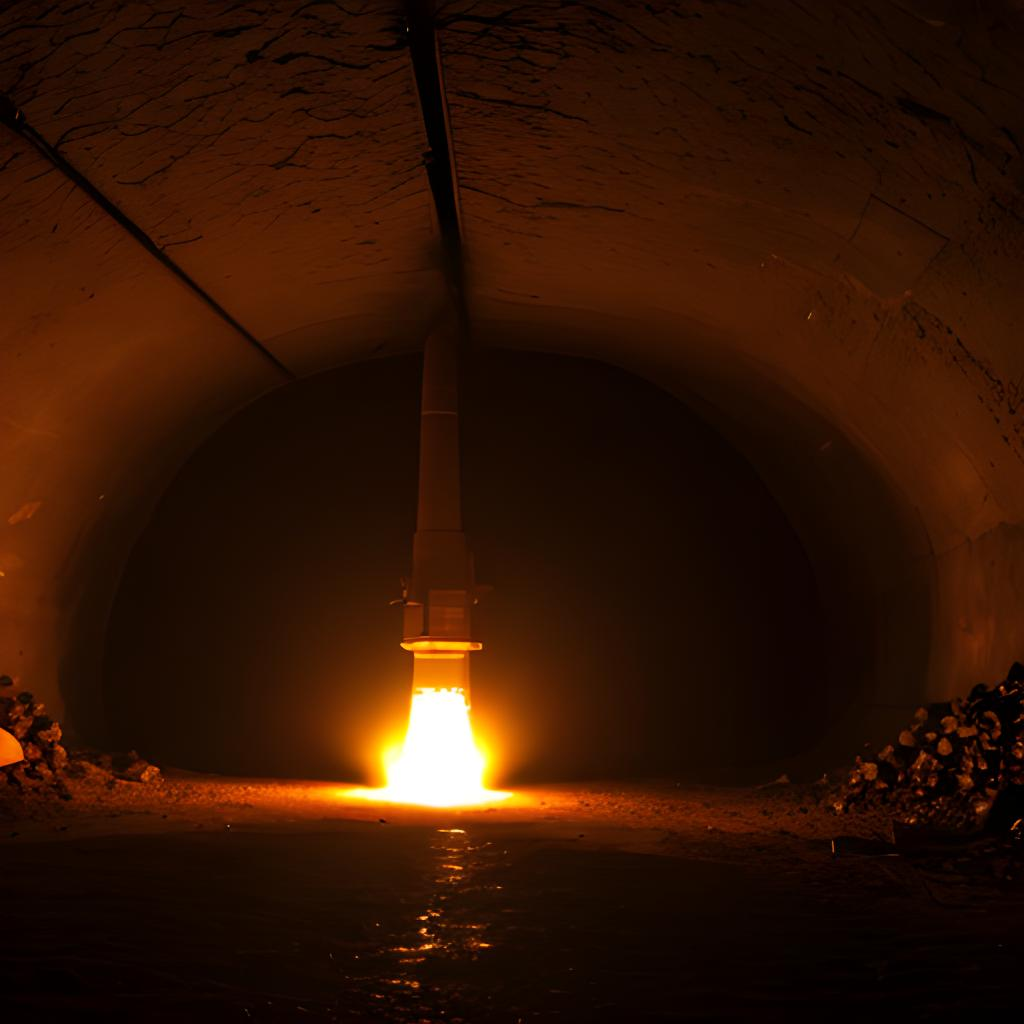fire: (331, 657, 519, 816)
